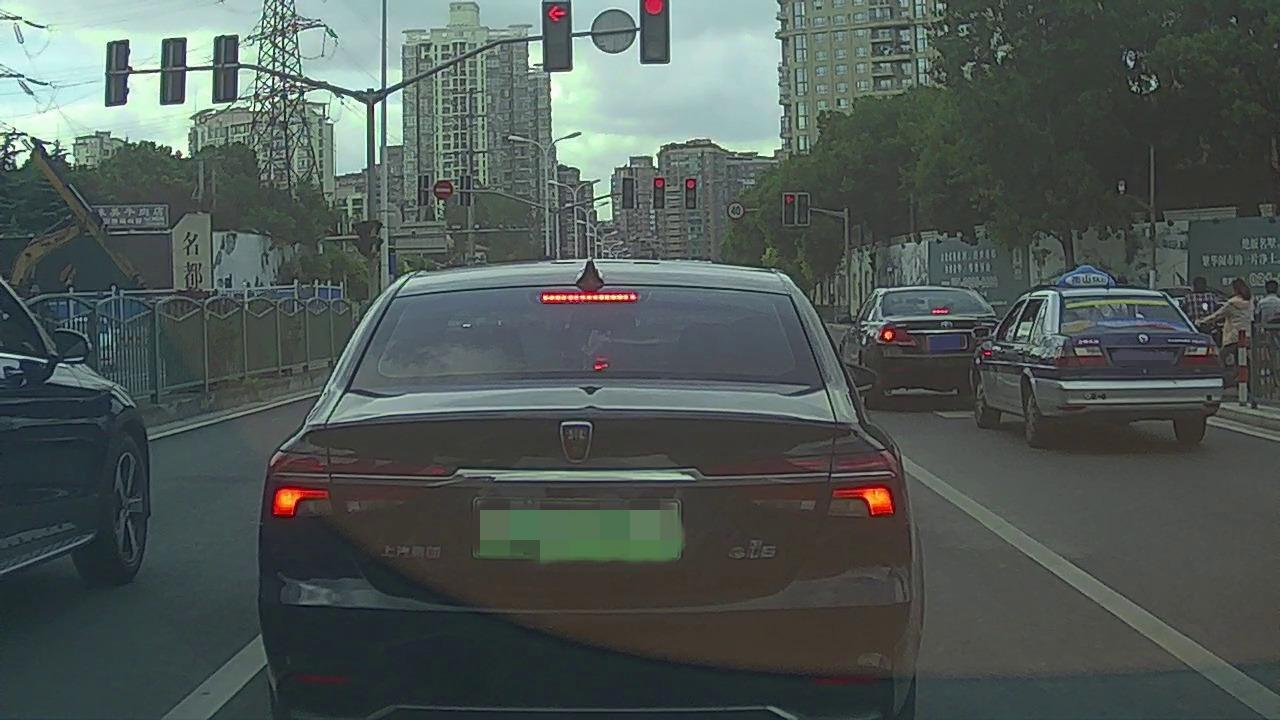traffic_light: (537, 1, 574, 70), (639, 1, 667, 63), (683, 180, 697, 208), (784, 193, 796, 225), (797, 193, 809, 224), (654, 177, 664, 208), (624, 178, 634, 208)
